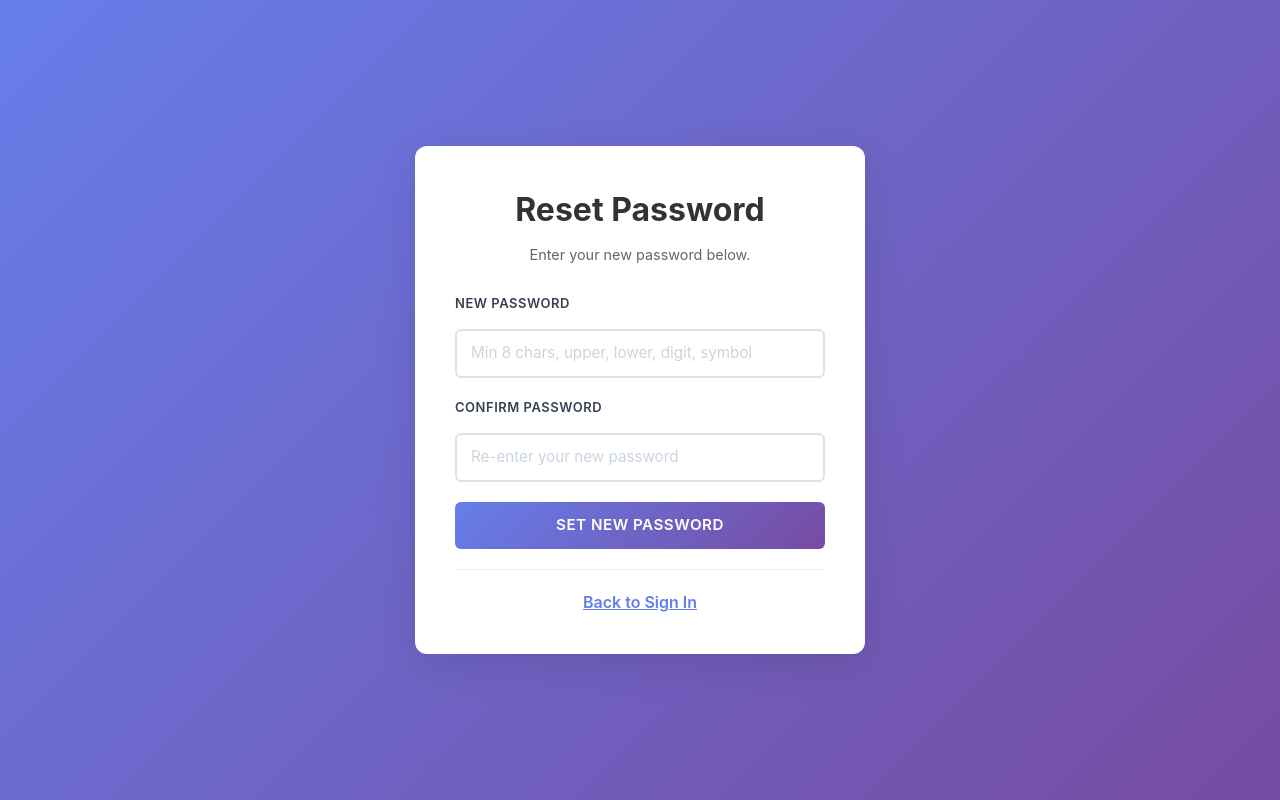
PasswordResetForm (ResetPasswordPage) › Success State › shows success message on successful reset
Type "NewSecurePass123!" into the password field labelled "New Password" at (640, 354), box [455, 329, 825, 378]
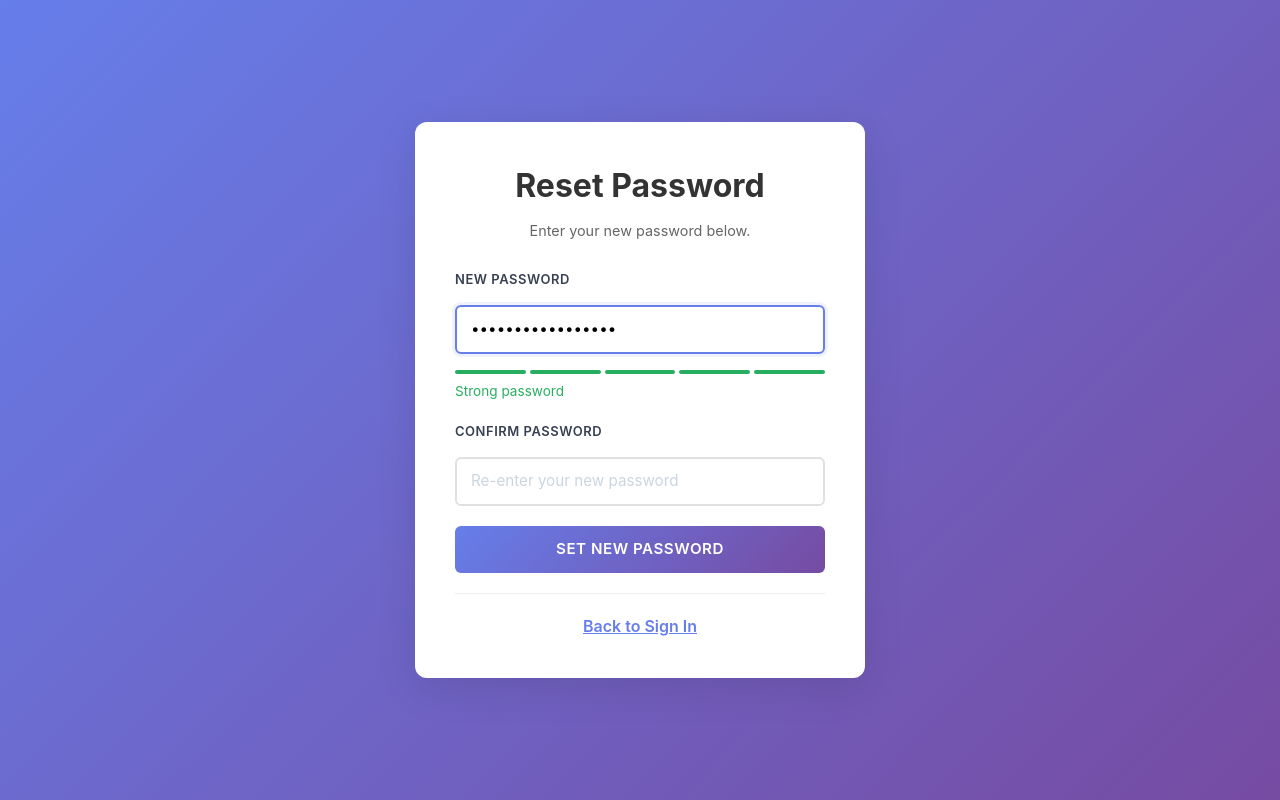
Type "NewSecurePass123!" into the password field labelled "Confirm Password" at (640, 482), box [455, 457, 825, 506]
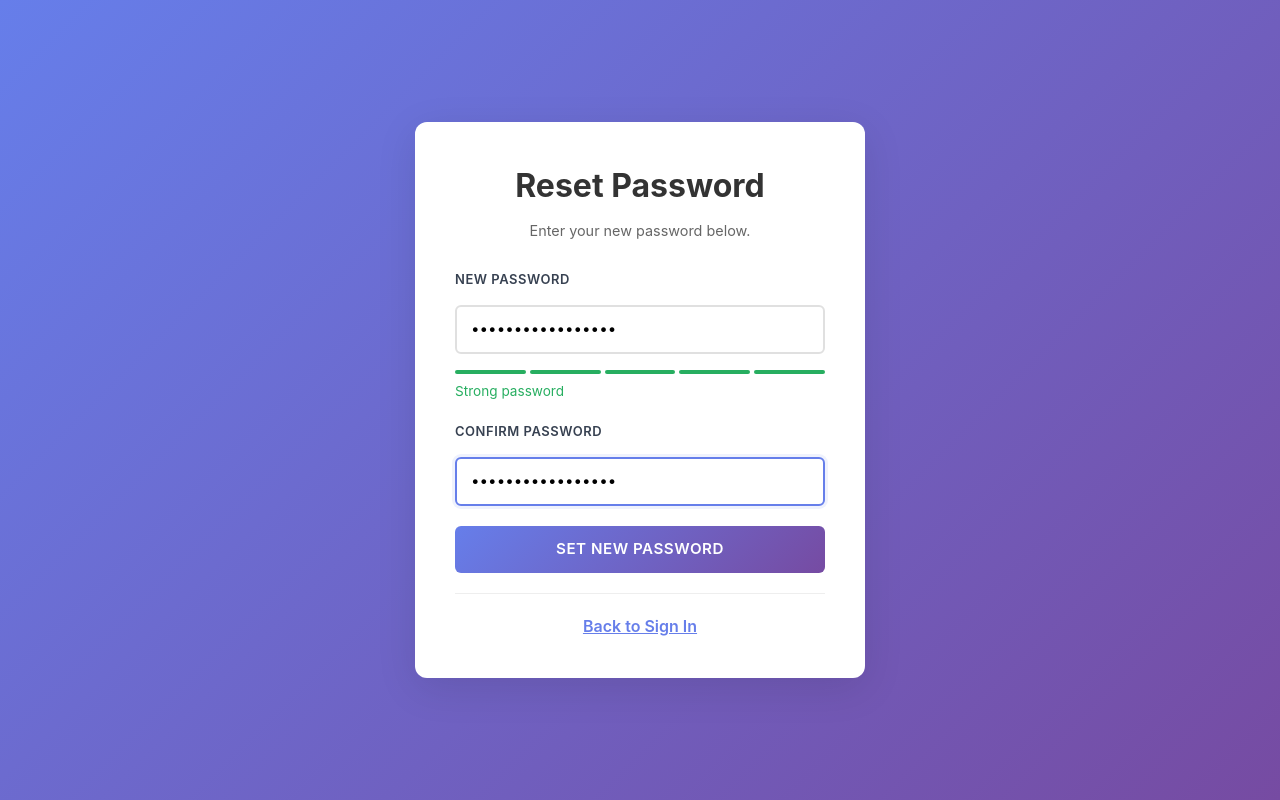
Click the button "Set New Password" at (640, 550), box [455, 526, 825, 573]
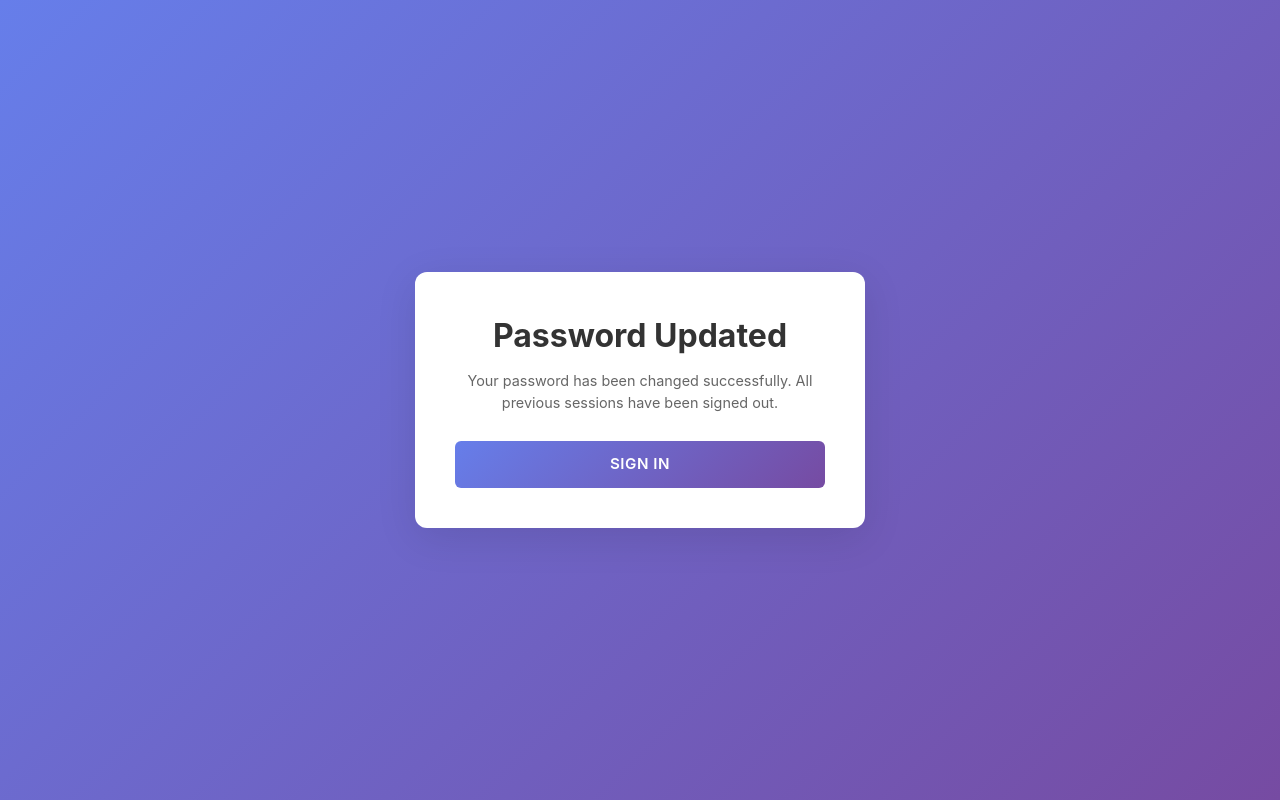
Check: the text "password has been changed successfully" is shown, box [468, 372, 812, 411]
